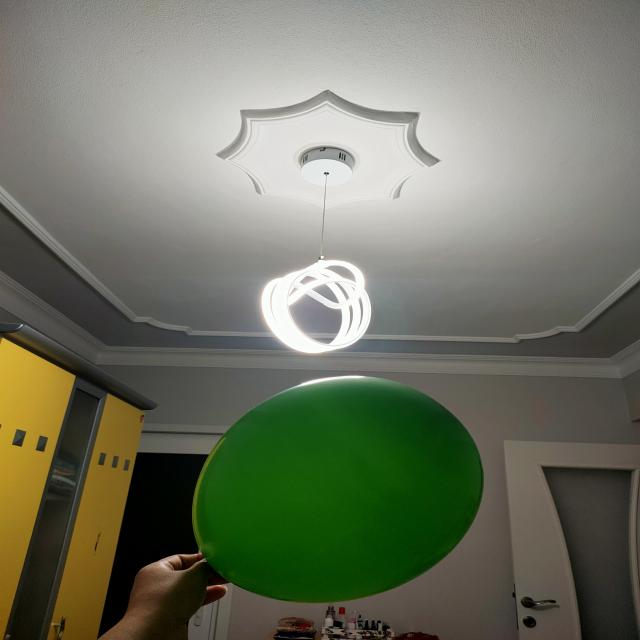green: (190, 376, 485, 606)
